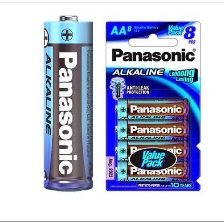battery: (41, 12, 95, 193), (112, 117, 191, 142), (112, 97, 189, 121), (114, 160, 191, 184), (113, 139, 191, 162)
